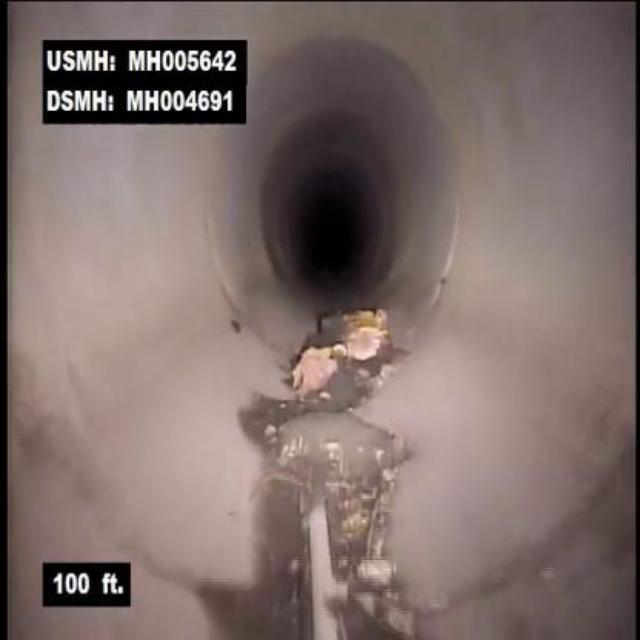Debris: (289, 288, 411, 418)
